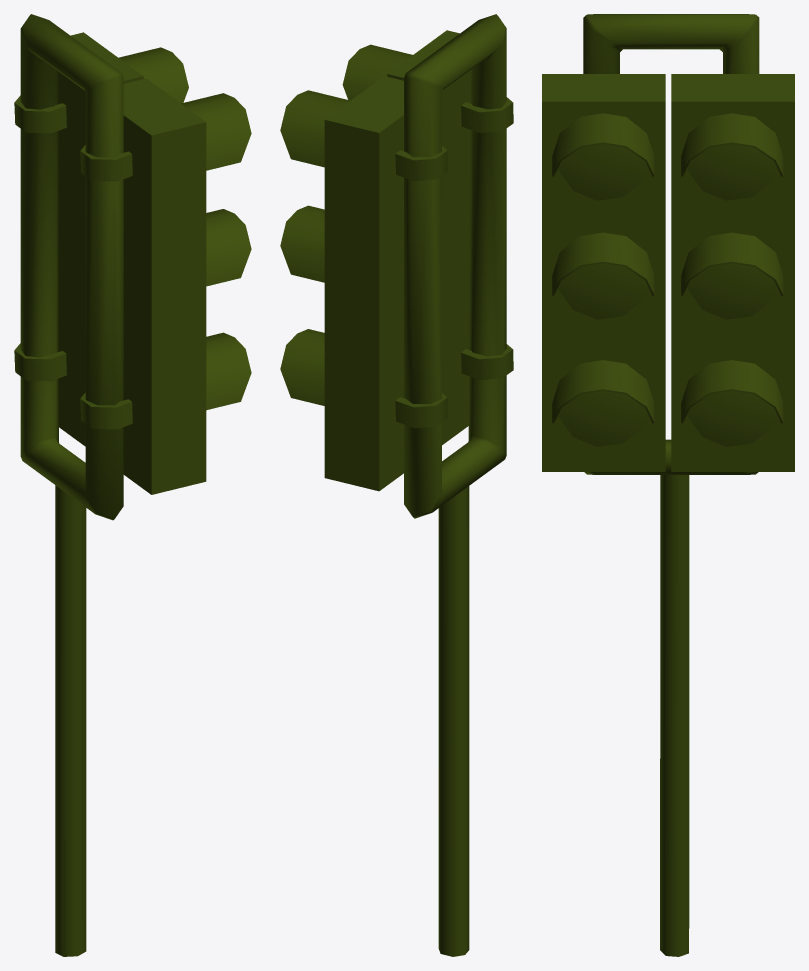
The model's file is T2_Lights02_M.fbx.
3 renders of one model, left to right at view 1: azimuth 30°, elevation 25°; view 2: azimuth 150°, elevation 25°; view 3: azimuth 270°, elevation 25°, orthographic. The views are drawn at different scales.
Visible parts, largest first — view 1: T2_Lights02; view 2: T2_Lights02; view 3: T2_Lights02, T2_Lights02_L1, T2_Lights02_L2.
Part boxes in pixels (x1,y1,x2,y2): T2_Lights02: [14, 14, 251, 956]; T2_Lights02: [280, 14, 513, 956]; T2_Lights02: [542, 14, 794, 956]; T2_Lights02_L1: [558, 144, 776, 446]; T2_Lights02_L2: [559, 162, 774, 319].
Bounding box in the file's own units: 0.1761 × 1.03 × 0.2516.
